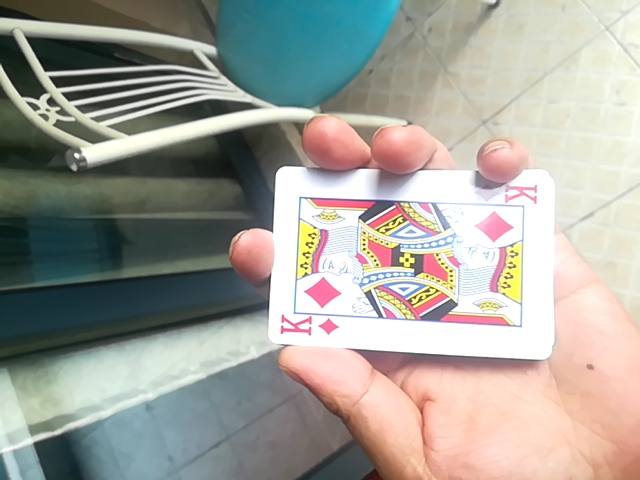fk k: (270, 154, 557, 359)
